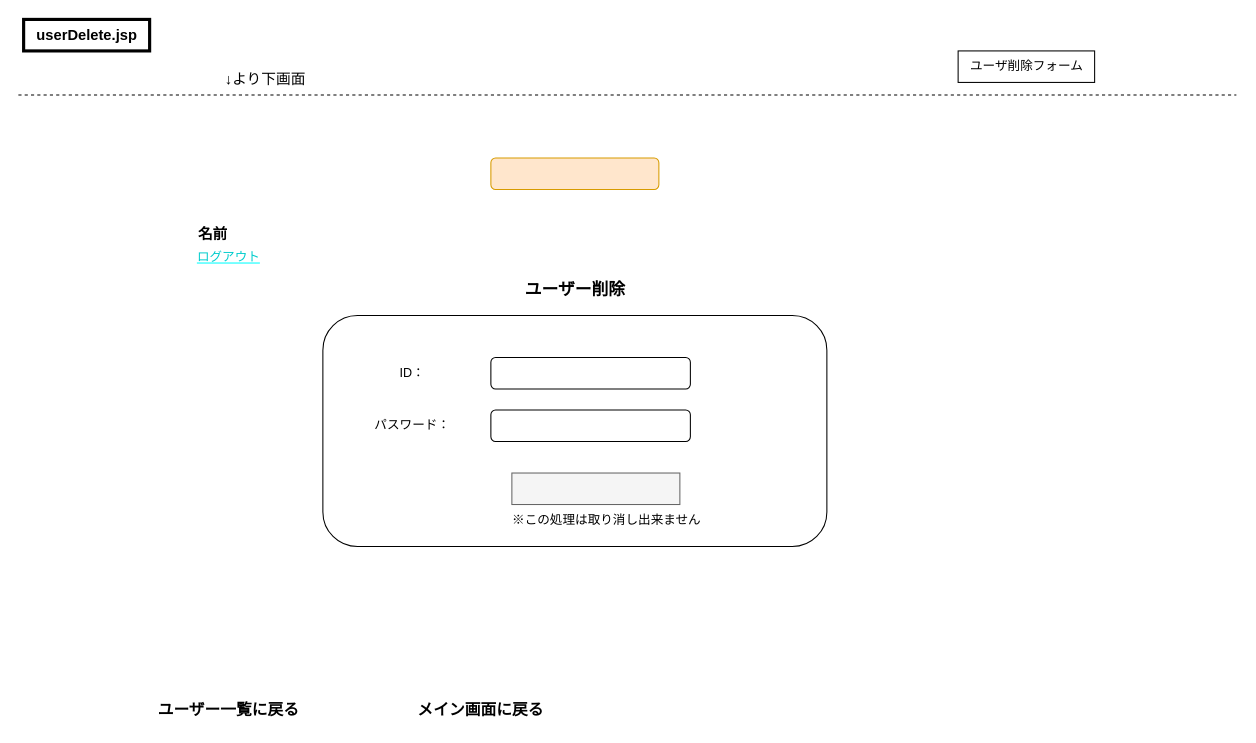
This 1256x743 diagram has some shape labels left out. Each missing label, with the centre of its shape:
ユーザー削除（ボタン）: point (595, 488)
人事評価システム（仮）: point (574, 173)
